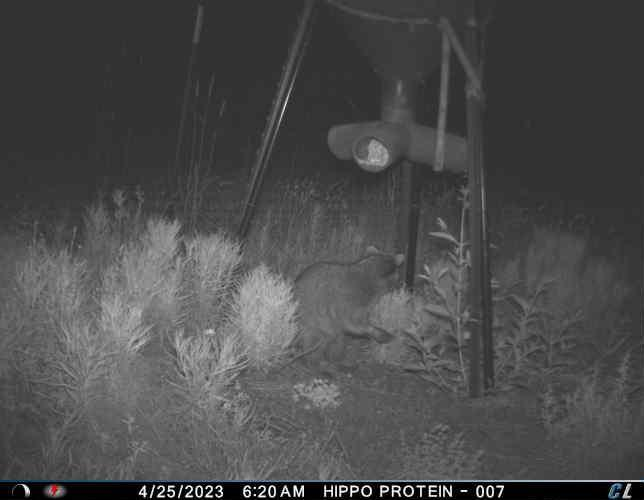Raccoon: (279, 242, 411, 367)
